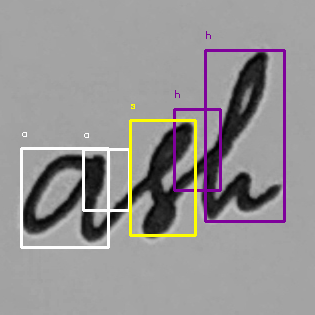a: (18, 147, 110, 250)
h: (199, 44, 286, 227)
s: (131, 119, 198, 241)
